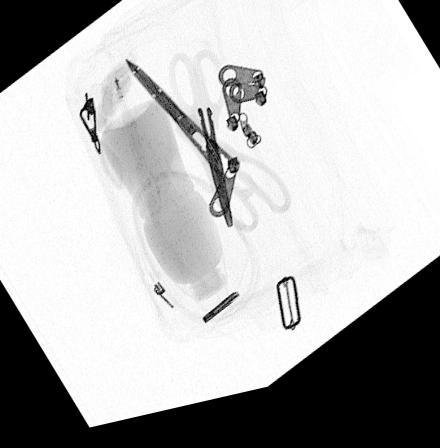Scissors: (122, 61, 294, 244), (166, 51, 238, 241)
